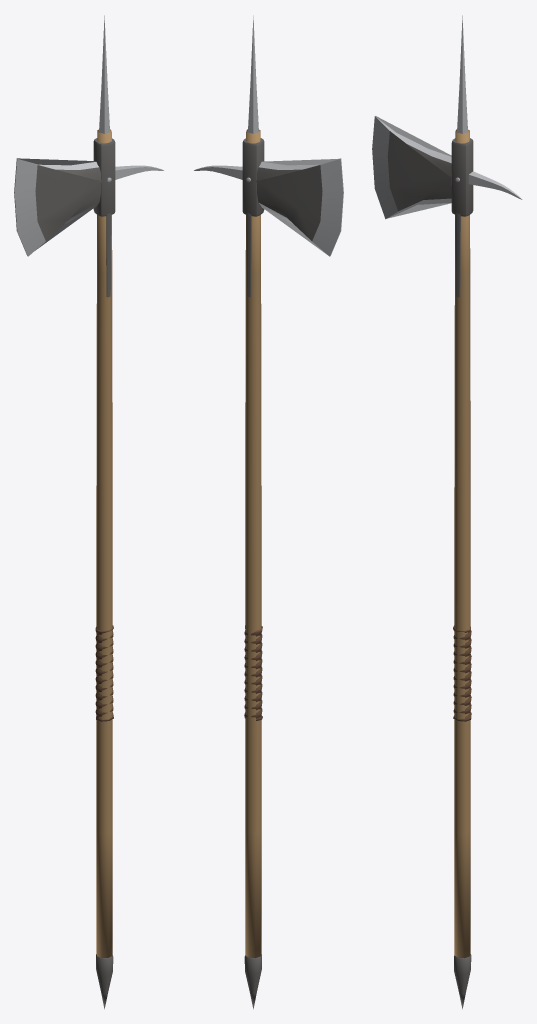
File: halberd.glb
3 views of the same model, side by side, from view 1: azimuth 30°, elevation 25°; view 2: azimuth 150°, elevation 25°; view 3: azimuth 330°, elevation 25° (orthographic).
Visible parts, largest first — view 1: halberd; view 2: halberd; view 3: halberd.
Part boxes in pixels (x1,y1,x2,y2): halberd: (14, 15, 163, 1009); halberd: (194, 15, 343, 1009); halberd: (372, 15, 522, 1009).
Bounding box in the file's own units: 0.873 × 5.52 × 0.1122.
